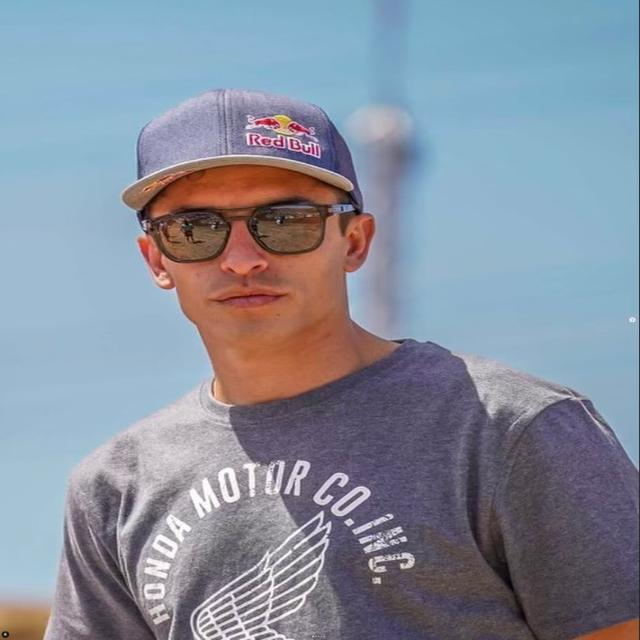illegal_helmet: (115, 82, 381, 353)
